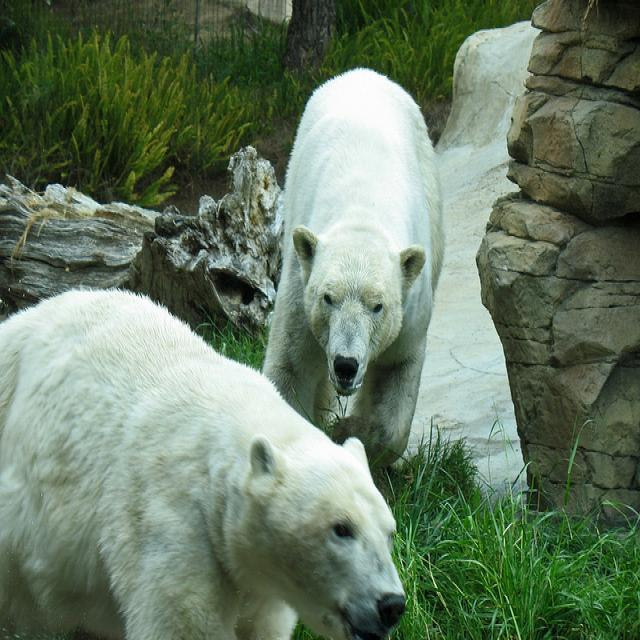Bear: (0, 283, 412, 639), (256, 40, 442, 460)
